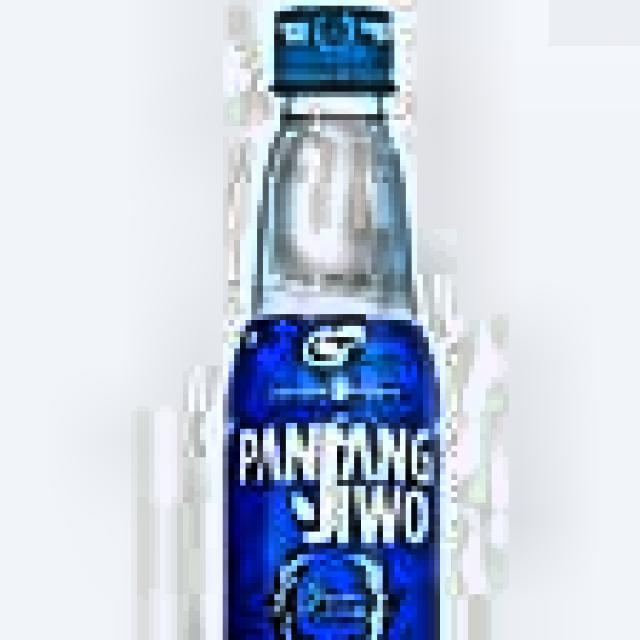plastic: (91, 0, 520, 640)
